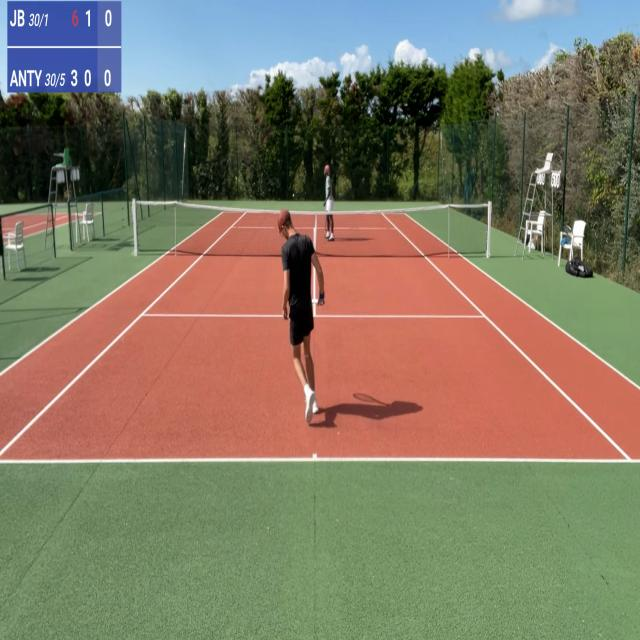ball: (292, 193, 295, 197)
